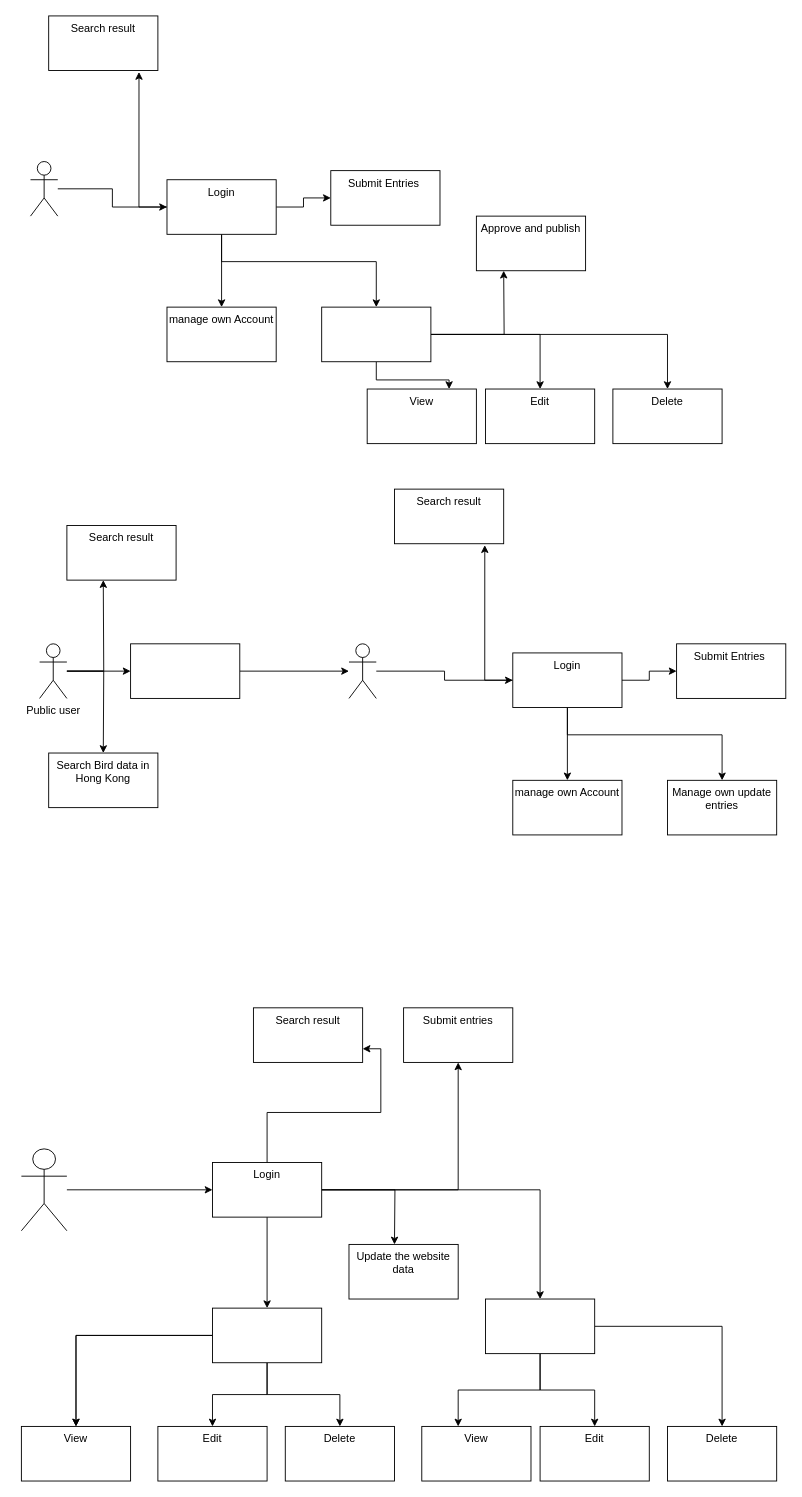
Image size: 802x1497. Some labels were removed from this diagram. The shapes that lost their labels are listed below. From the top down, each one's centre as x and y in pixels, then its label:
At [44,188]: "Researcher".
At [376,334]: "Manage all update entries".
At [185,670]: "Register".
At [362,670]: "Registered User".
At [43,1189]: "Admin User".
At [267,1335]: "Manage entries".
At [540,1326]: "manage Account".
